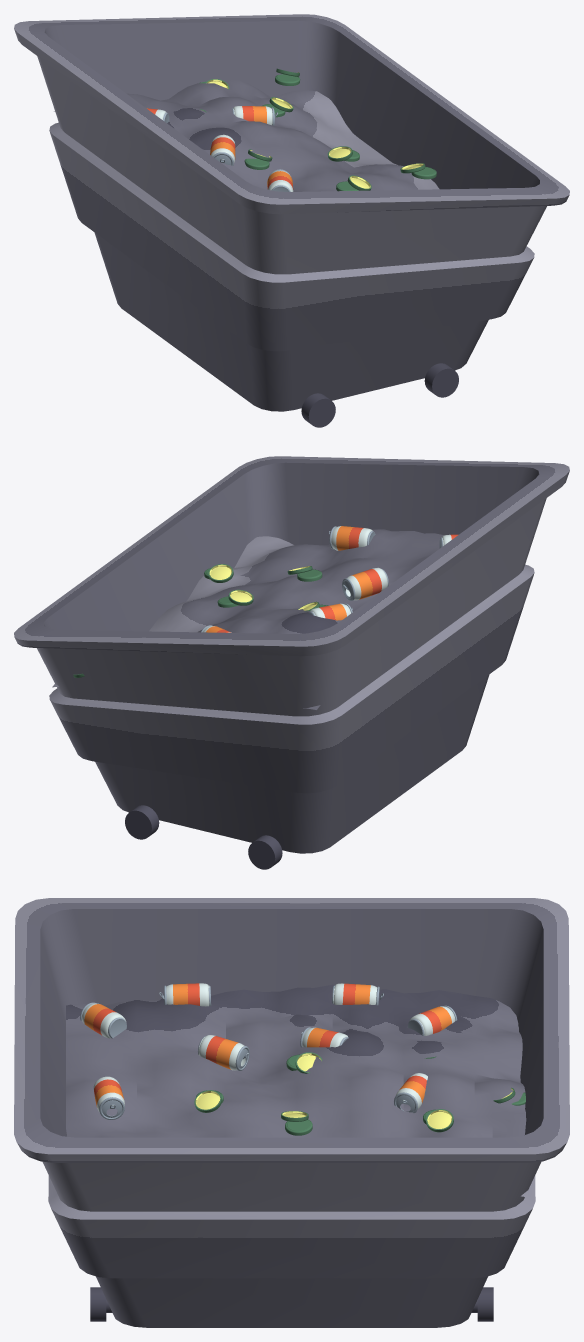
File: separador_Ng.fbx
3 views of the same model, one above another, from view 1: azimuth 30°, elevation 25°; view 2: azimuth 150°, elevation 25°; view 3: azimuth 270°, elevation 25° (orthographic). The views are drawn at different scales.
Visible parts, largest first — view 1: separador_Ng; view 2: separador_Ng; view 3: separador_Ng.
Boxes of the visible parts, x1,y1,x2,y2 form: separador_Ng: (14,14,569,427); separador_Ng: (14,456,569,869); separador_Ng: (14,898,569,1327).
Size of the model in its own units: 370 by 293 by 492.
